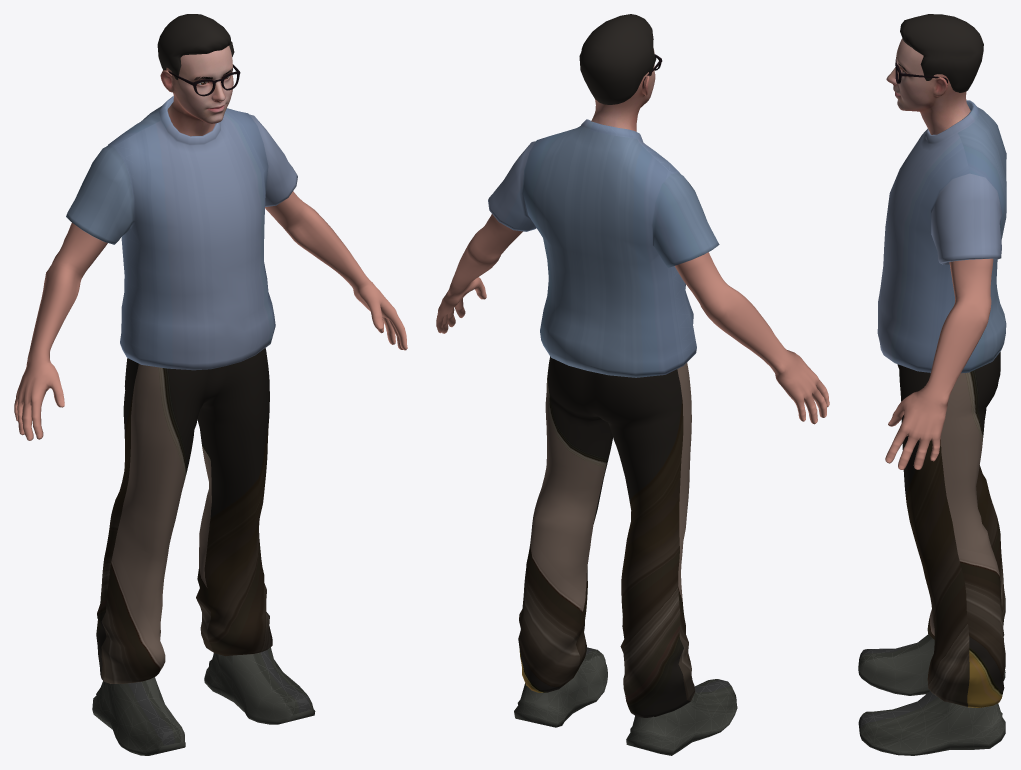
Rendered from sushil_designer_model.fbx.
3 renders of one model, left to right at view 1: azimuth 30°, elevation 25°; view 2: azimuth 150°, elevation 25°; view 3: azimuth 270°, elevation 25°, orthographic.
Visible parts, largest first — view 1: Wolf3D_Outfit_Top, Wolf3D_Outfit_Bottom, Wolf3D_Body, Wolf3D_Outfit_Footwear, Wolf3D_Head, Wolf3D_Hair; view 2: Wolf3D_Outfit_Bottom, Wolf3D_Outfit_Top, Wolf3D_Body, Wolf3D_Outfit_Footwear, Wolf3D_Hair, Wolf3D_Head; view 3: Wolf3D_Outfit_Bottom, Wolf3D_Outfit_Top, Wolf3D_Outfit_Footwear, Wolf3D_Body, Wolf3D_Hair, Wolf3D_Head.
Boxes of the visible parts, bbox=[...] form: Wolf3D_Outfit_Top: bbox=[66, 96, 297, 370]; Wolf3D_Outfit_Bottom: bbox=[96, 348, 272, 683]; Wolf3D_Body: bbox=[14, 191, 407, 440]; Wolf3D_Outfit_Footwear: bbox=[92, 647, 315, 755]; Wolf3D_Head: bbox=[160, 46, 233, 136]; Wolf3D_Hair: bbox=[157, 14, 234, 79]; Wolf3D_Outfit_Bottom: bbox=[518, 356, 695, 717]; Wolf3D_Outfit_Top: bbox=[488, 119, 719, 377]; Wolf3D_Body: bbox=[436, 214, 829, 424]; Wolf3D_Outfit_Footwear: bbox=[514, 647, 737, 755]; Wolf3D_Hair: bbox=[579, 14, 656, 104]; Wolf3D_Head: bbox=[591, 49, 655, 131]; Wolf3D_Outfit_Bottom: bbox=[897, 352, 1005, 707]; Wolf3D_Outfit_Top: bbox=[877, 100, 1006, 373]; Wolf3D_Outfit_Footwear: bbox=[858, 634, 1005, 755]; Wolf3D_Body: bbox=[885, 258, 993, 469]; Wolf3D_Hair: bbox=[900, 14, 983, 92]; Wolf3D_Head: bbox=[886, 38, 970, 134].
Size of the model in its own units: 1.06 by 1.86 by 0.3599.
9 materials, 9 textured.
